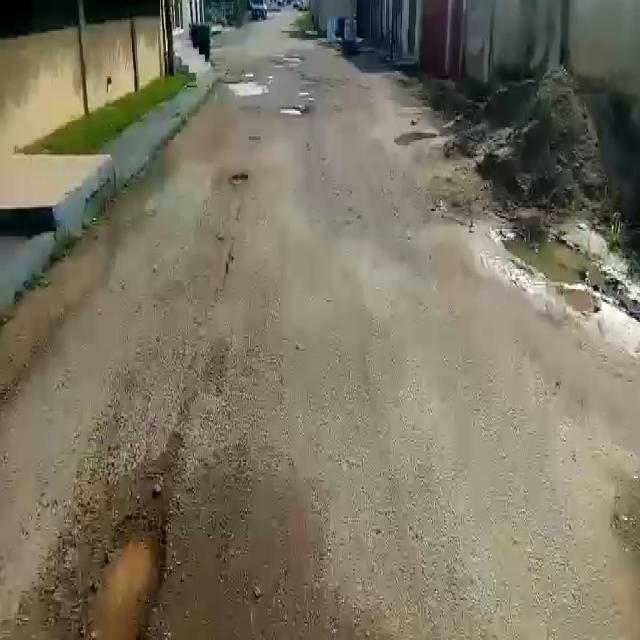Pothole: (80, 517, 168, 637), (220, 78, 270, 96), (277, 105, 307, 117), (228, 171, 250, 187)
